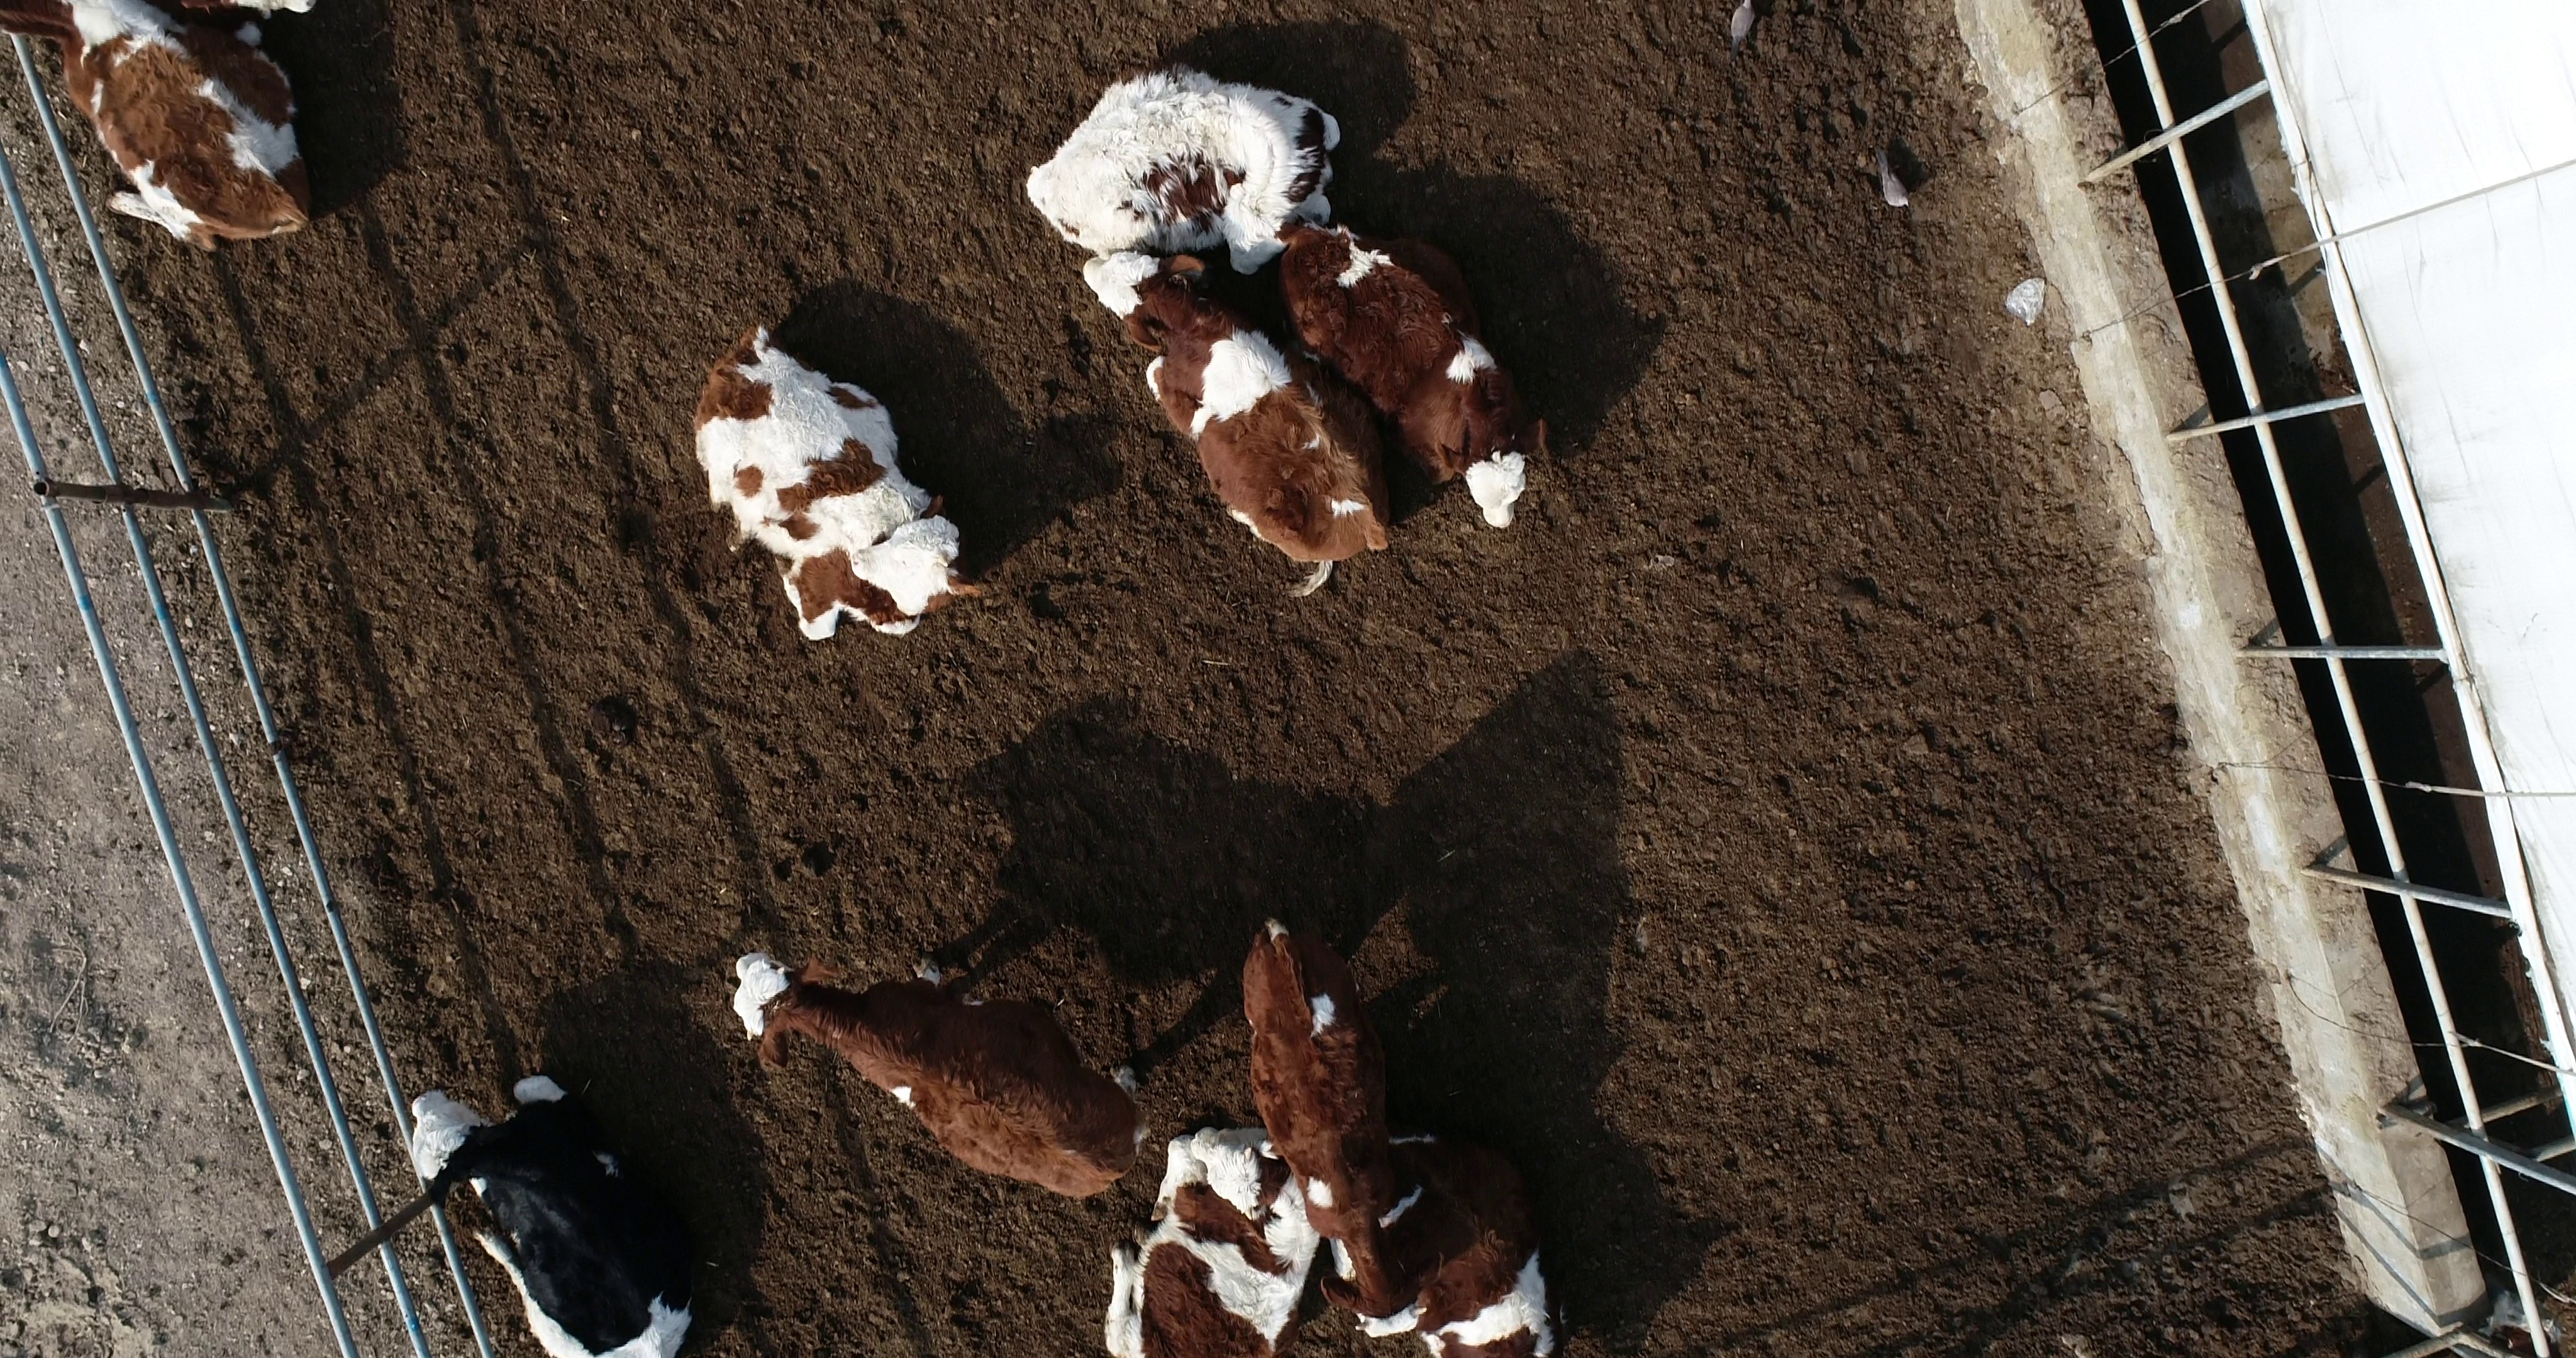cattle: (733, 942, 1157, 1200), (1080, 245, 1406, 569), (687, 315, 1000, 644), (1235, 910, 1448, 1341), (1276, 210, 1540, 530), (1022, 65, 1341, 268)
